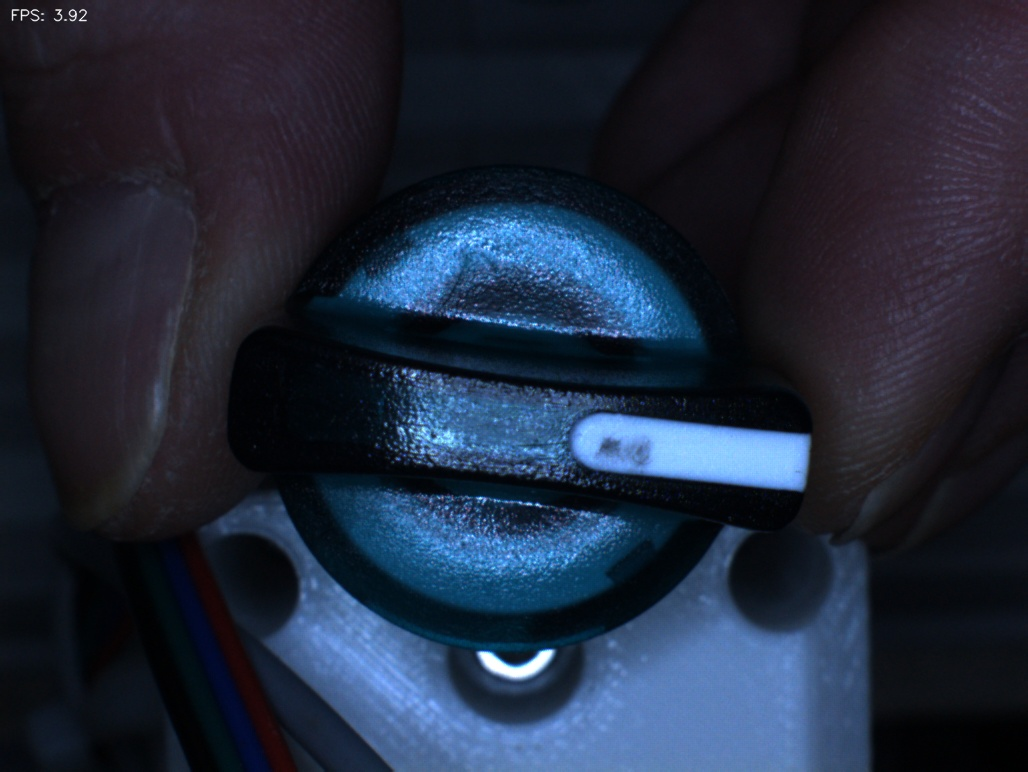PointNoir: (547, 394, 674, 495)
